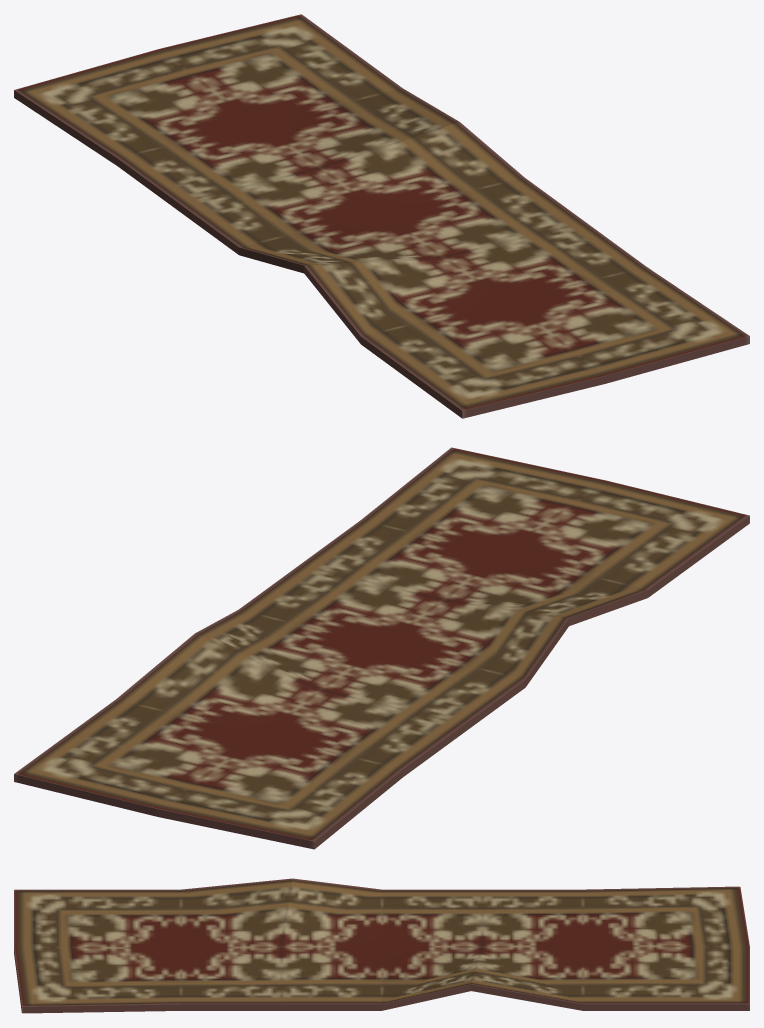
The model's file is SM_Prop_Rug_20.fbx.
3 views of the same model, one above another, from view 1: azimuth 30°, elevation 25°; view 2: azimuth 150°, elevation 25°; view 3: azimuth 270°, elevation 25° (orthographic). The views are drawn at different scales.
Visible parts, largest first — view 1: SM_Prop_Rug_20; view 2: SM_Prop_Rug_20; view 3: SM_Prop_Rug_20.
Part boxes in pixels (bbox=[...]): SM_Prop_Rug_20: bbox=[14, 14, 749, 418]; SM_Prop_Rug_20: bbox=[14, 447, 749, 849]; SM_Prop_Rug_20: bbox=[14, 878, 749, 1013].
Size of the model in its own units: 164 by 13.87 by 423.
